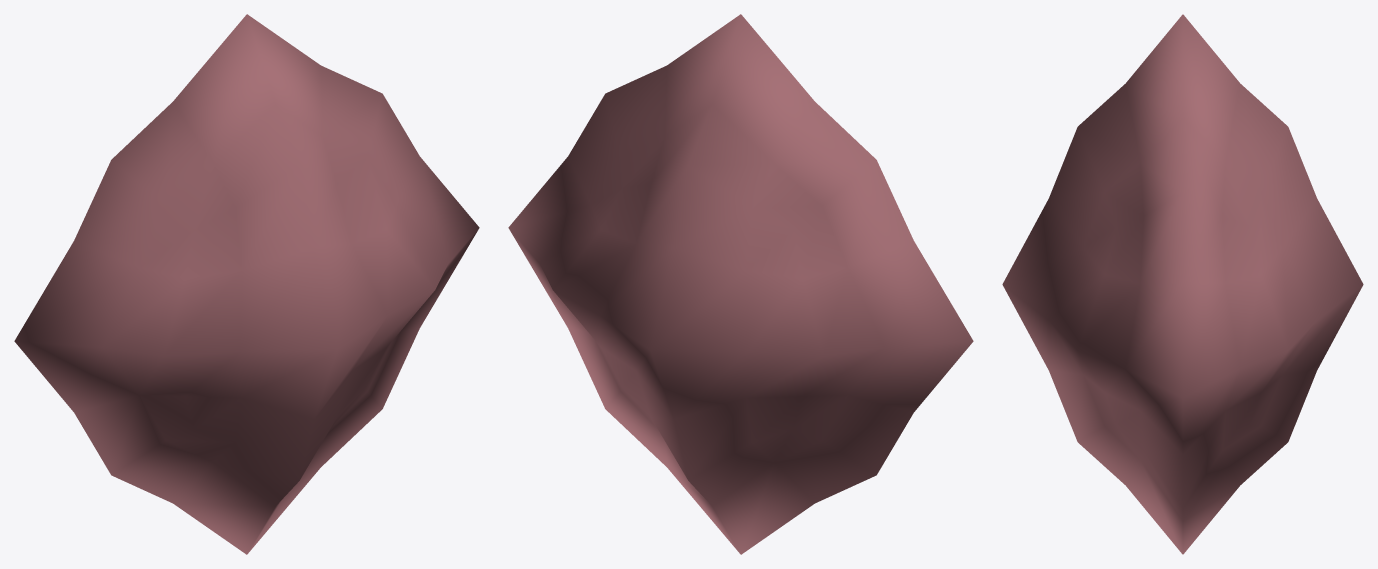
File: rockyPlanet_seed.fbx
3 views of the same model, side by side, from view 1: azimuth 30°, elevation 25°; view 2: azimuth 150°, elevation 25°; view 3: azimuth 270°, elevation 25° (orthographic).
Parts seen in each view (by area): view 1: seed_rocky; view 2: seed_rocky; view 3: seed_rocky.
Part boxes in pixels (x1,y1,x2,y2): seed_rocky: (14,14,479,554); seed_rocky: (508,14,973,554); seed_rocky: (1002,14,1363,554).
Size of the model in its own units: 11.43 by 12.7 by 7.69.
